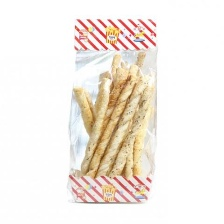snack: (59, 8, 166, 209)
